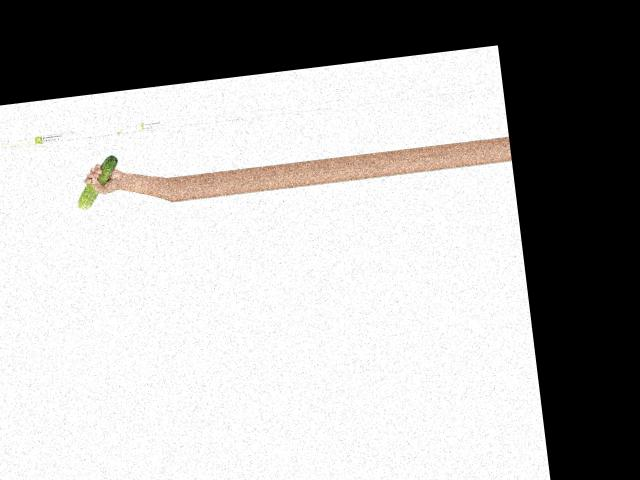cucumber: (73, 154, 124, 209)
